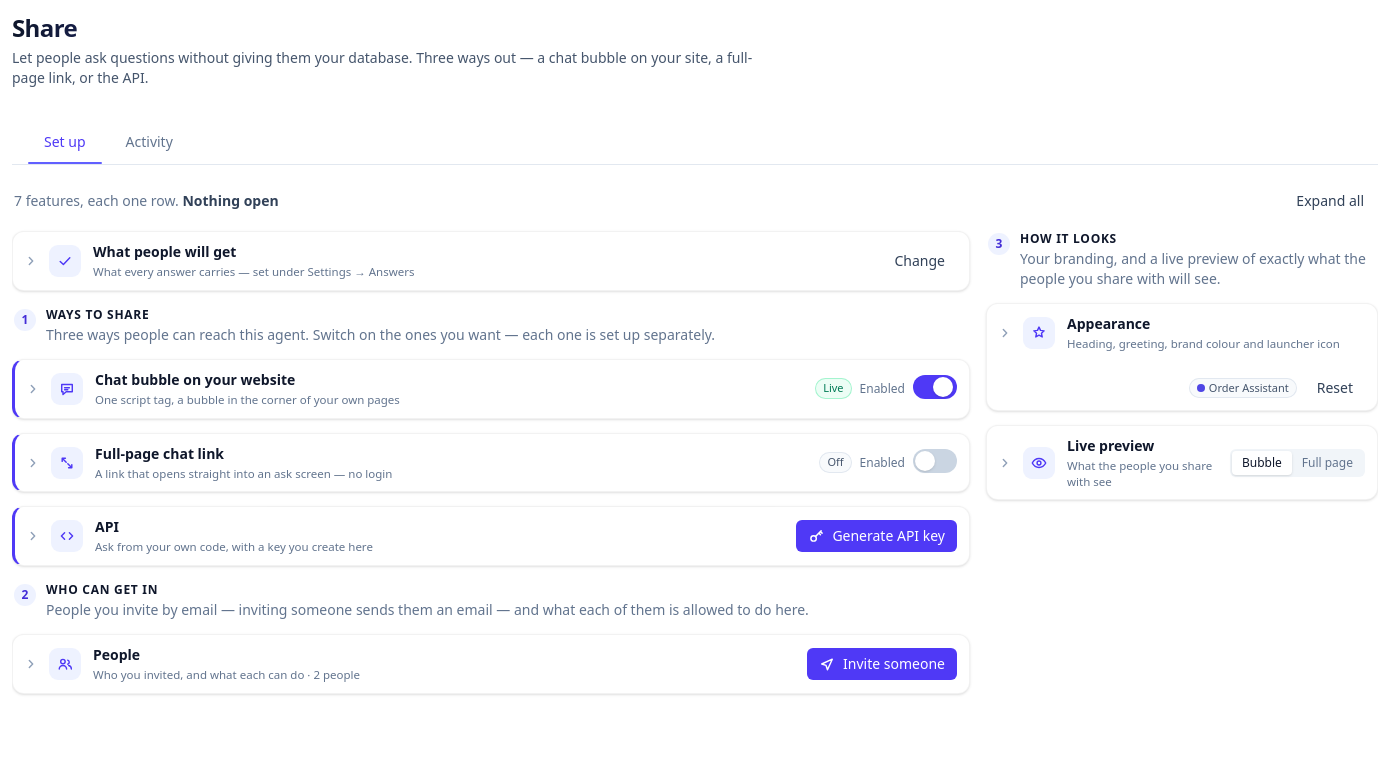
Test: Share screen rows › opens one row without opening its neighbours
Click the button that starts with "Chat bubble on your website" at point(67, 389), box [15,360,803,418]
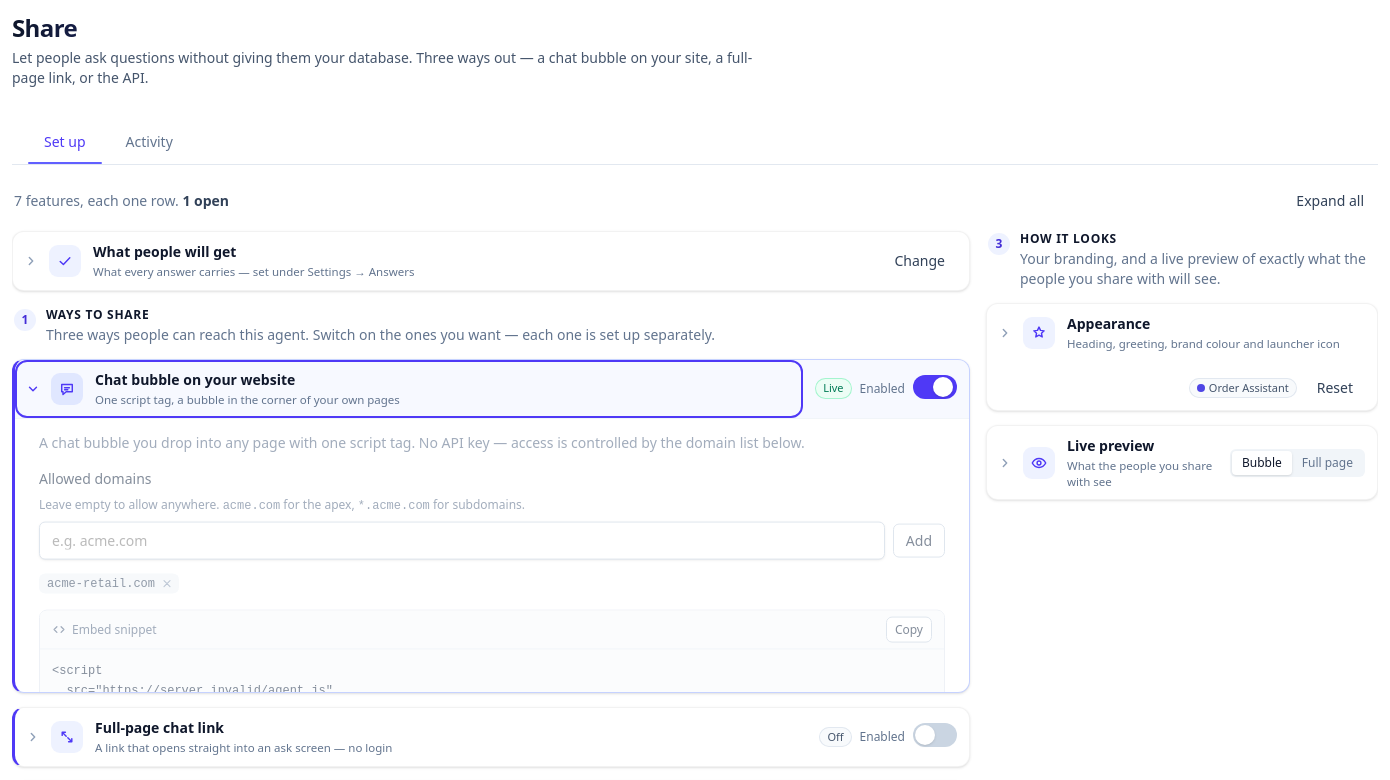
Expected: the text "Embed snippet" is shown, [52,624,157,640]
Now the button that starts with "Chat bubble on your website" is expanded, box [15,360,803,418]
Now the text "1 open" is shown, box [182,191,229,210]
